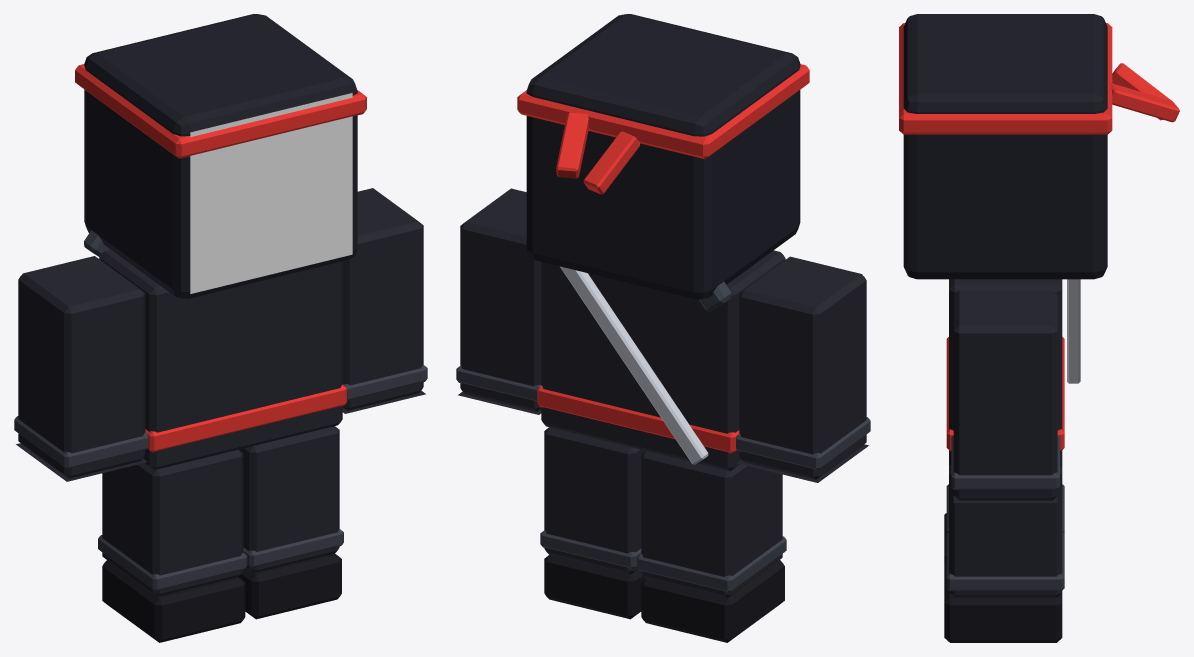
The model's file is shadow.glb.
The picture shows the model from 3 angles, left to right: view 1: azimuth 30°, elevation 25°; view 2: azimuth 150°, elevation 25°; view 3: azimuth 270°, elevation 25°; orthographic projection.
Parts seen in each view (by area): view 1: Cube.009, Cube.004, Plane, Cube.005, Cube, Cube.007, Cube.002, Cube.001, Cube.010, Cube.003, Cube.013, Cube.018 (+3 smaller); view 2: Cube.009, Cube.004, Cube.005, Cube, Cube.007, Cube.002, Cube.001, Cube.010, Cube.014, Cube.003, Cube.013, Cube.018 (+5 smaller); view 3: Cube.009, Cube.007, Cube.002, Cube.003, Cube.010, Cube.004, Cube.019, Cube.017, Cube.014, Cube.011, Cube.012, Cube.013.
Boxes of the visible parts, left/top/right/bottom form: Cube.009: left=84, top=14, right=357, bottom=298; Cube.004: left=99, top=250, right=342, bottom=469; Plane: left=190, top=93, right=352, bottom=293; Cube.005: left=18, top=256, right=145, bottom=478; Cube: left=102, top=449, right=243, bottom=596; Cube.007: left=342, top=188, right=423, bottom=410; Cube.002: left=239, top=426, right=339, bottom=572; Cube.001: left=102, top=560, right=245, bottom=642; Cube.010: left=75, top=64, right=366, bottom=158; Cube.003: left=238, top=553, right=341, bottom=619; Cube.013: left=145, top=384, right=346, bottom=452; Cube.018: left=98, top=535, right=247, bottom=591; Cube.009: left=526, top=14, right=800, bottom=299; Cube.004: left=541, top=250, right=785, bottom=471; Cube.005: left=739, top=256, right=866, bottom=479; Cube: left=641, top=451, right=782, bottom=598; Cube.007: left=460, top=188, right=541, bottom=411; Cube.002: left=544, top=427, right=645, bottom=574; Cube.001: left=641, top=560, right=784, bottom=642; Cube.010: left=517, top=64, right=809, bottom=158; Cube.014: left=560, top=266, right=708, bottom=464; Cube.003: left=544, top=555, right=645, bottom=619; Cube.013: left=537, top=385, right=739, bottom=453; Cube.018: left=637, top=536, right=786, bottom=592; Cube.009: left=903, top=14, right=1107, bottom=279; Cube.007: left=953, top=290, right=1057, bottom=500; Cube.002: left=949, top=465, right=1062, bottom=597; Cube.003: left=944, top=561, right=1062, bottom=642; Cube.010: left=899, top=23, right=1112, bottom=134; Cube.004: left=949, top=279, right=1062, bottom=466; Cube.019: left=946, top=532, right=1064, bottom=591; Cube.017: left=951, top=436, right=1059, bottom=490; Cube.014: left=1067, top=279, right=1080, bottom=383; Cube.011: left=1110, top=83, right=1179, bottom=122; Cube.012: left=1112, top=63, right=1171, bottom=120; Cube.013: left=946, top=337, right=1064, bottom=450.
Size of the model in its own units: 1.88 by 2.65 by 1.24.
